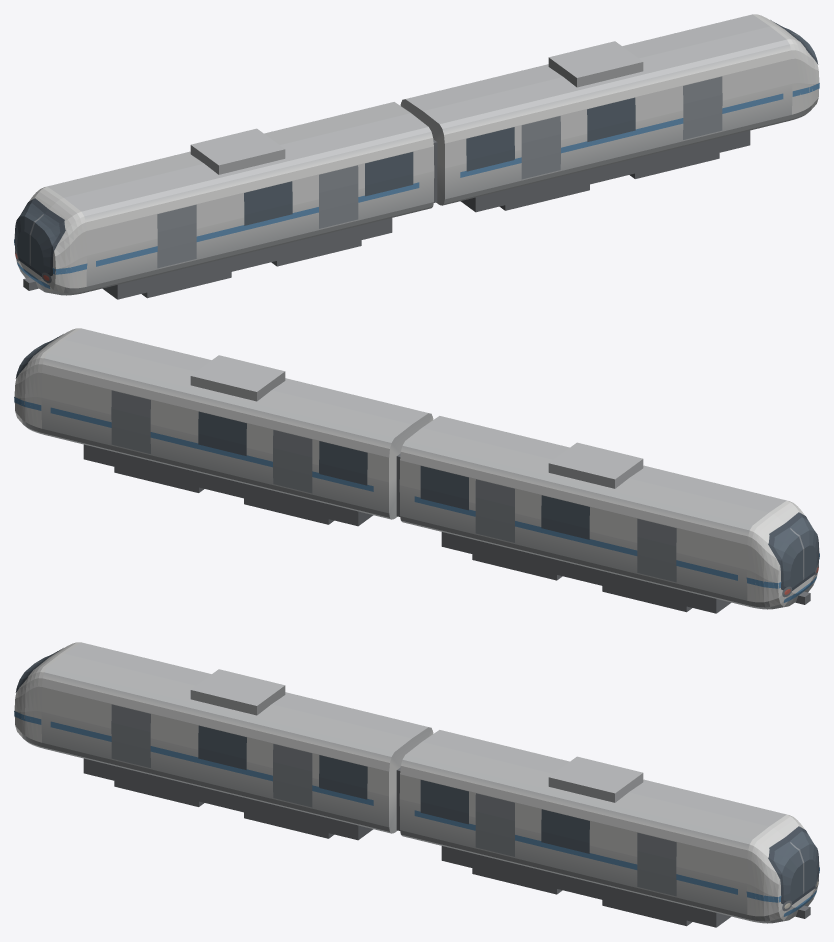
File: 02_HSR_MRT_3x2-03.glb
3 views of the same model, one above another, from view 1: azimuth 30°, elevation 25°; view 2: azimuth 150°, elevation 25°; view 3: azimuth 330°, elevation 25° (orthographic).
Size of the model in its own units: 25.88 by 3.58 by 2.64.
